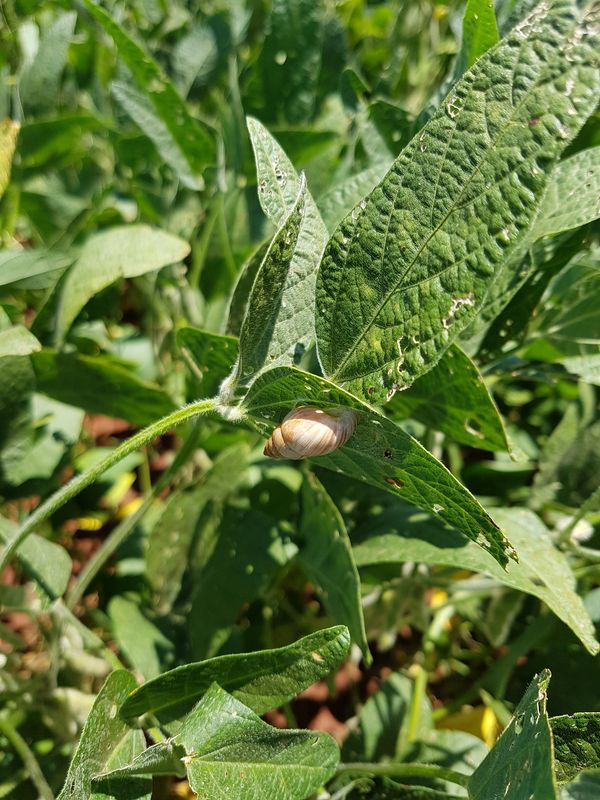Gastropoda: (254, 392, 371, 471)
